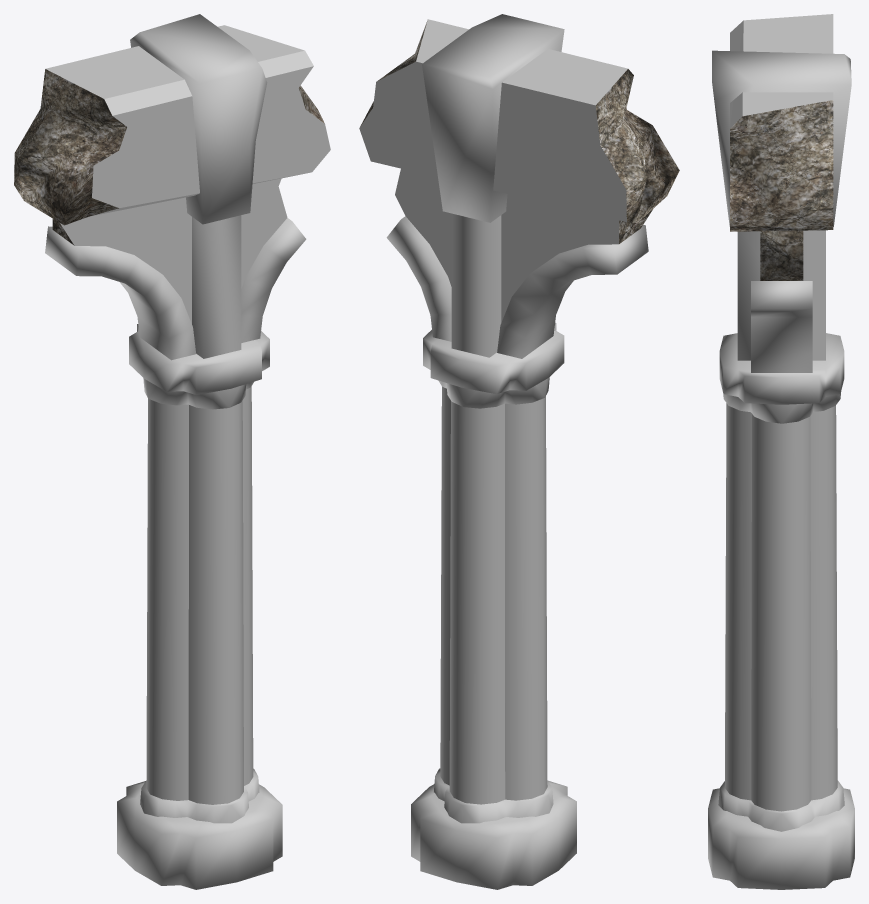
The model's file is Ruins_17.fbx.
3 views of the same model, side by side, from view 1: azimuth 30°, elevation 25°; view 2: azimuth 150°, elevation 25°; view 3: azimuth 270°, elevation 25° (orthographic). The views are drawn at different scales.
Visible parts, largest first — view 1: polySurface2950; view 2: polySurface2950; view 3: polySurface2950.
Boxes of the visible parts, box(x1,y1,x2,y2) form: polySurface2950: box(14, 14, 330, 889); polySurface2950: box(359, 14, 679, 889); polySurface2950: box(708, 14, 854, 889).
Size of the model in its own units: 2.44 by 6.73 by 1.12.
